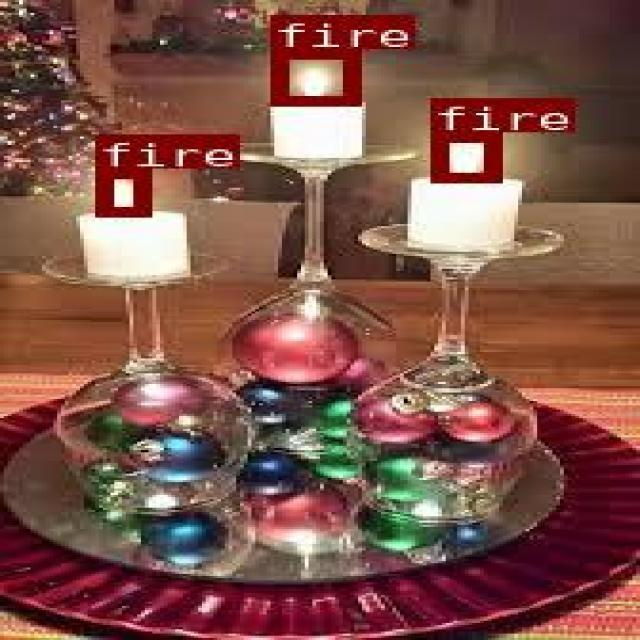fire: (270, 48, 355, 104), (429, 131, 499, 180), (92, 168, 146, 215)
